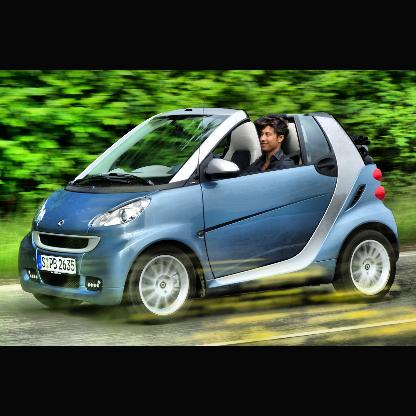smart fortwo Convertible 2012: (20, 97, 401, 326)
